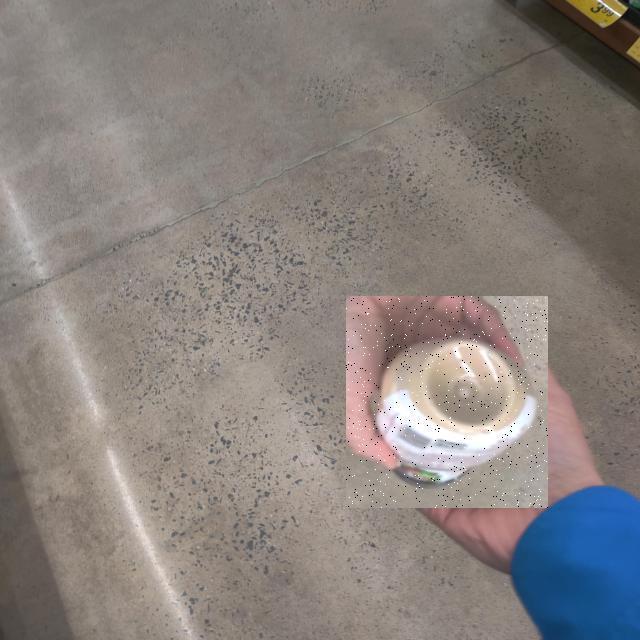Sauce: (346, 297, 548, 509)
